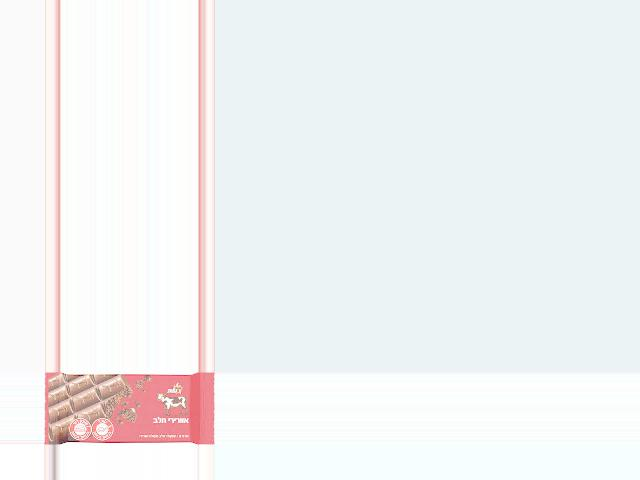chocolate: (44, 373, 212, 445)
